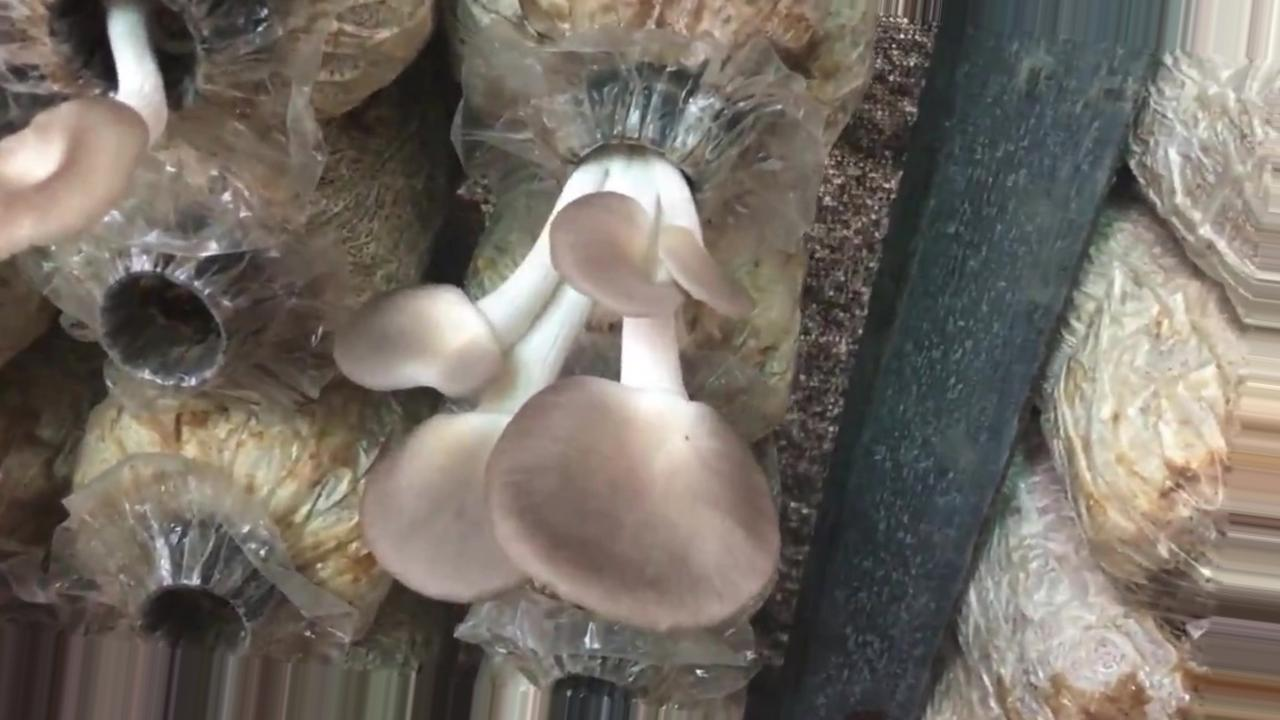nam: (336, 88, 781, 623), (1, 1, 216, 256)
